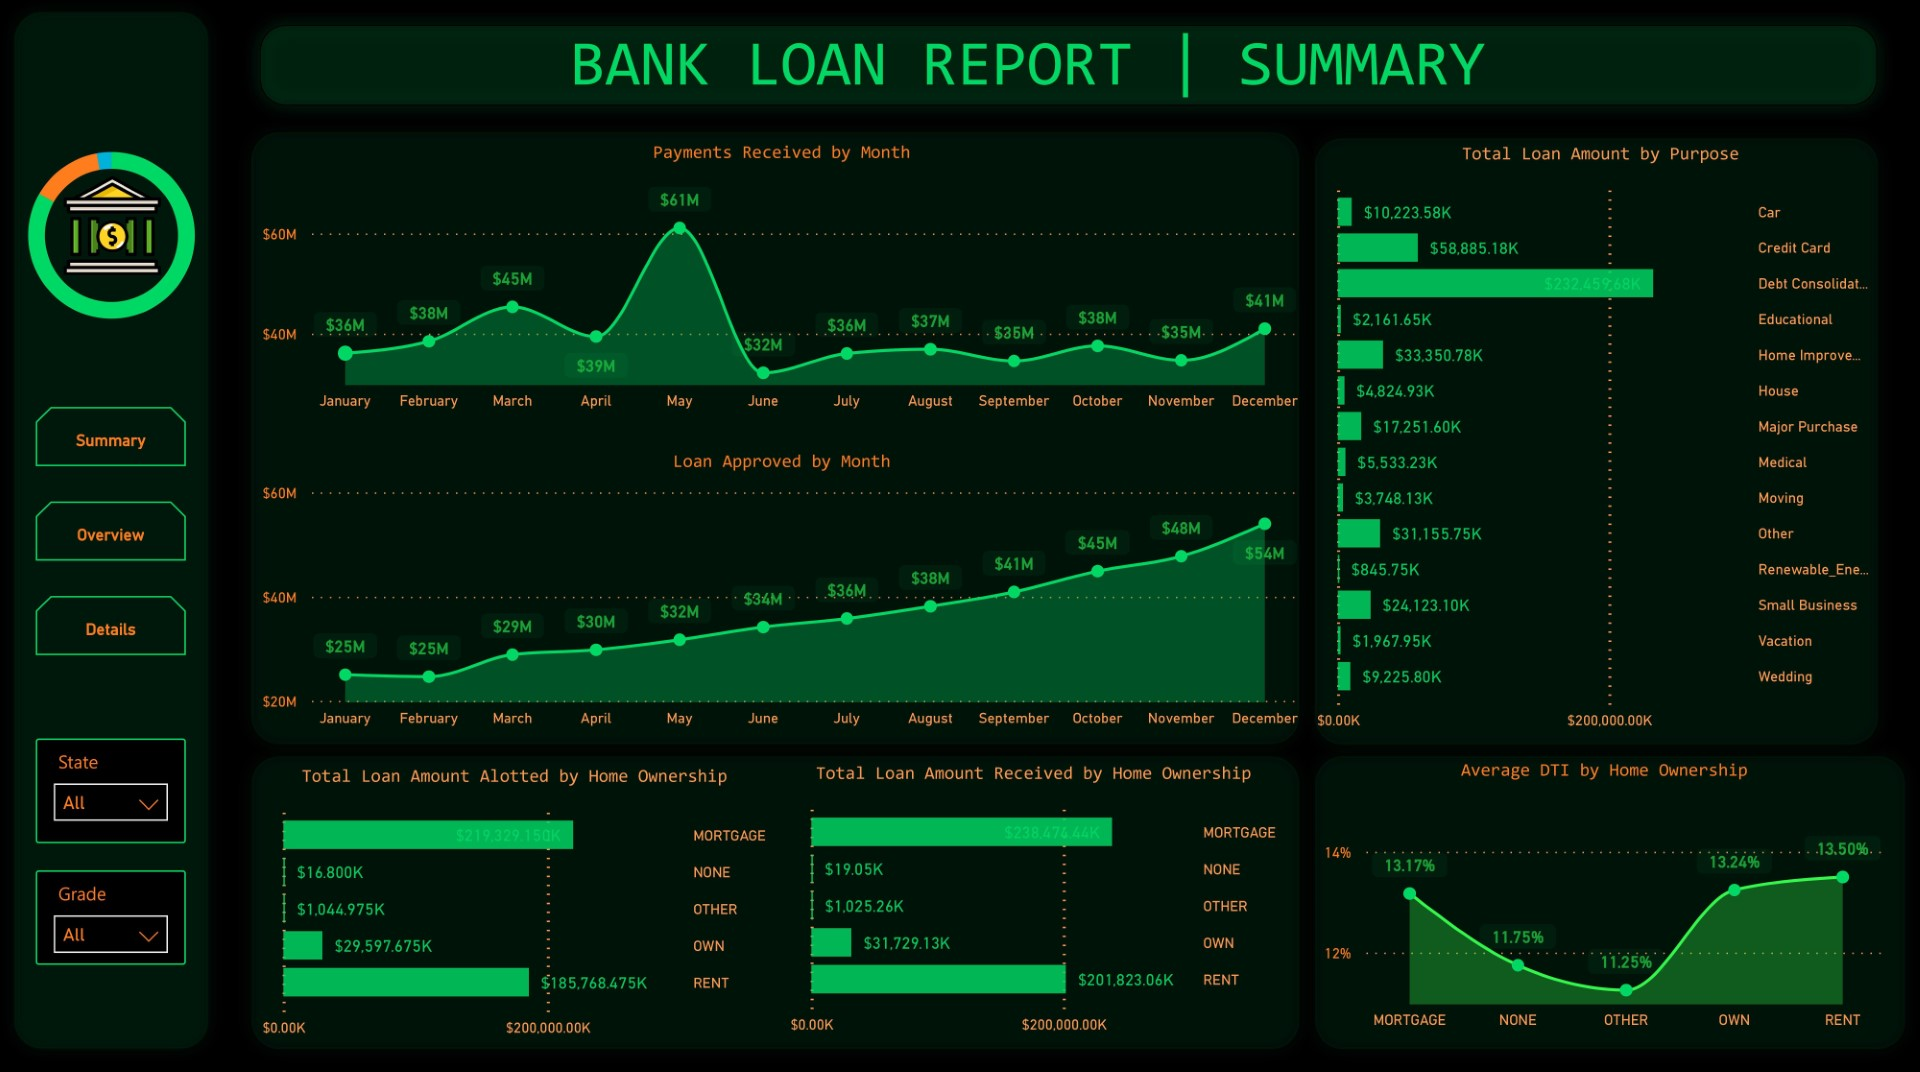

What the dashboard file says about the page in this screenshot:
{"tool":"powerbi","page":{"name":"Summary","canvas":[1280,720],"ordinal":0},"visuals":[{"type":"shape","title":"Menu Shadow","box":[0,0,148.8,710.5],"z":0,"group":"g9"},{"type":"shape","box":[162.8,8.1,1098.8,74.4],"z":0,"group":"g10"},{"type":"donutChart","title":"Loan Status","fields":{"Category":["financial_loan (2).loan_status"],"Y":["CountNonNull(financial_loan (2).id)"]},"box":[0,72.1,148.8,173.3],"z":0,"group":"g5"},{"type":"shape","title":"KPI Shadow","box":[161,83,1111.6,200],"z":0,"group":"g8"},{"type":"cardVisual","fields":{"Data":["Count(financial_loan (2).id)"]},"box":[187.2,114,202,86.9],"z":0,"group":"g2"},{"type":"group","id":"g1","title":"Shadow","box":[163.3,293,1098.7,260.6],"z":0,"group":"g6"},{"type":"shape","title":"KPI Shadow","box":[163.3,293,540.9,260.6],"z":0,"group":"g1"},{"type":"actionButton","box":[24.4,398.9,100,39.5],"z":0,"group":"g4"},{"type":"slicer","fields":{"Values":["finance.address_state"]},"box":[24.4,494.2,100,69.8],"z":0,"group":"g3"},{"type":"clusteredBarChart","title":"Chart Bar 1","fields":{"Category":["finance.loan_status"],"Y":["Count(finance.id)"]},"box":[162.8,582.6,308.1,119.8],"z":0,"group":"g7"},{"type":"textbox","box":[374.4,14,630.2,60],"z":1000,"group":"g10"},{"type":"image","box":[34.9,114,79.1,75.6],"z":1000,"group":"g5"},{"type":"group","id":"g2","title":"Group 1","box":[187.2,114,1062.8,150],"z":1000,"group":"g8"},{"type":"cardVisual","fields":{"Data":["Sum(financial_loan (2).loan_amount)"]},"box":[404.1,114,200.9,86.9],"z":1000,"group":"g2"},{"type":"actionButton","box":[24.4,273.3,100,39.5],"z":1000,"group":"g4"},{"type":"shape","title":"KPI Shadow","box":[721.1,293,540.9,260.6],"z":1000,"group":"g1"},{"type":"lineChart","fields":{"Category":["finance.issue_date.Variation.Date Hierarchy.Year","finance.issue_date.Variation.Date Hierarchy.Quarter","finance.issue_date.Variation.Date Hierarchy.Month","finance.issue_date.Variation.Date Hierarchy.Day"],"Y":["Avg(finance.int_rate)"]},"box":[180.2,314.6,506.4,219.9],"z":1000,"group":"g6"},{"type":"group","id":"g3","title":"Slicer","box":[24.4,494.2,100,151.2],"z":1000,"group":"g9"},{"type":"slicer","fields":{"Values":["finance.grade"]},"box":[24.4,582.6,100,62.8],"z":1000,"group":"g3"},{"type":"tableEx","fields":{"Values":["financial_loan (2).loan_status","CountNonNull(financial_loan (2).id)","Sum(financial_loan (2).loan_amount)","Sum(financial_loan (2).total_payment)","finance.MTD Amount Received","finance.MTD Funded Amount","Avg(financial_loan (2).int_rate)","Avg(financial_loan (2).dti)"]},"box":[484.9,586.1,776.7,118.6],"z":1000,"group":"g7"},{"type":"card","fields":{"Values":["finance.MTD Amount Received"]},"box":[654.8,211.9,69.1,48.6],"z":2000,"group":"g2"},{"type":"group","id":"g4","title":"Menu","box":[24.4,273.3,100,165.1],"z":2000,"group":"g9"},{"type":"lineChart","fields":{"Category":["finance.issue_date.Variation.Date Hierarchy.Year","finance.issue_date.Variation.Date Hierarchy.Quarter","finance.issue_date.Variation.Date Hierarchy.Month","finance.issue_date.Variation.Date Hierarchy.Day"],"Y":["Avg(finance.dti)"]},"box":[747.9,314.6,506.4,219.9],"z":2000,"group":"g6"},{"type":"actionButton","box":[24.4,336.1,100,39.5],"z":2000,"group":"g4"},{"type":"group","id":"g5","title":"Logo","box":[0,72.1,148.8,173.3],"z":3000,"group":"g9"},{"type":"card","fields":{"Values":["finance.Measure"]},"box":[427.1,213.4,68.9,48.6],"z":3000,"group":"g2"},{"type":"card","fields":{"Values":["finance.MTD Avg Intereset Rate"]},"box":[873.3,211.8,69.1,48.6],"z":4000,"group":"g2"},{"type":"card","fields":{"Values":["finance.MTD Loan Applications"]},"box":[220.9,214.3,70,48.6],"z":5000,"group":"g2"},{"type":"card","fields":{"Values":["finance.MTD Avg DTI"]},"box":[1079,215.4,69.1,48.6],"z":6000,"group":"g2"},{"type":"group","id":"g6","title":"Summary: Indicator 2","box":[163.3,293,1098.7,260.6],"z":6000},{"type":"card","fields":{"Values":["finance.MOM Loan Applications"]},"box":[291,214.3,68.9,48.6],"z":7000,"group":"g2"},{"type":"group","id":"g7","title":"Summary:  Indicator 1","box":[162.8,582.6,1098.8,122.1],"z":7000},{"type":"group","id":"g8","title":"KPI Panel","box":[161,83,1111.6,200],"z":8000},{"type":"card","fields":{"Values":["finance.MOM Avg DTI"]},"box":[1147.8,215.2,68.9,48.6],"z":8000,"group":"g2"},{"type":"group","id":"g9","title":"Side Bar","box":[0,0,148.8,710.5],"z":9000},{"type":"card","fields":{"Values":["finance.MOM Avg Interest Rate"]},"box":[942.6,212.7,68.9,48.6],"z":9000,"group":"g2"},{"type":"group","id":"g10","title":"Header","box":[162.8,8.1,1098.8,74.4],"z":10000},{"type":"card","fields":{"Values":["finance.MOM Amount Received"]},"box":[723.9,210.7,68.9,48.6],"z":10000,"group":"g2"},{"type":"card","fields":{"Values":["finance.MOM Funded Amount"]},"box":[495.9,214.5,70,48.6],"z":11000,"group":"g2"},{"type":"cardVisual","fields":{"Data":["Sum(finance.total_payment)"]},"box":[618.7,114,200.9,86.9],"z":12000,"group":"g2"},{"type":"cardVisual","fields":{"Data":["Avg(finance.int_rate)"]},"box":[832.2,115.1,202,86.9],"z":13000,"group":"g2"},{"type":"cardVisual","fields":{"Data":["Avg(finance.dti)"]},"box":[1048,116.3,202,86.9],"z":14000,"group":"g2"}]}

Visuals, with their boxes in screenshot pixels (x1, y1, x2, y2), scaled from the page's 1280x720 canvas onto the 1920x1072 screenshot:
"Menu Shadow" shape: pyautogui.locateOnScreen(0, 0, 223, 1058)
shape: pyautogui.locateOnScreen(244, 12, 1892, 123)
"Loan Status" donutChart: pyautogui.locateOnScreen(0, 107, 223, 365)
"KPI Shadow" shape: pyautogui.locateOnScreen(242, 124, 1909, 421)
cardVisual - Count(financial_loan (2).id): pyautogui.locateOnScreen(281, 170, 584, 299)
"Shadow" group: pyautogui.locateOnScreen(245, 436, 1893, 824)
"KPI Shadow" shape: pyautogui.locateOnScreen(245, 436, 1056, 824)
actionButton: pyautogui.locateOnScreen(37, 594, 187, 653)
slicer - finance.address_state: pyautogui.locateOnScreen(37, 736, 187, 840)
"Chart Bar 1" clusteredBarChart: pyautogui.locateOnScreen(244, 867, 706, 1046)
textbox: pyautogui.locateOnScreen(562, 21, 1507, 110)
image: pyautogui.locateOnScreen(52, 170, 171, 282)
"Group 1" group: pyautogui.locateOnScreen(281, 170, 1875, 393)
cardVisual - Sum(financial_loan (2).loan_amount): pyautogui.locateOnScreen(606, 170, 908, 299)
actionButton: pyautogui.locateOnScreen(37, 407, 187, 466)
"KPI Shadow" shape: pyautogui.locateOnScreen(1082, 436, 1893, 824)
lineChart - finance.issue_date.Variation.Date Hierarchy.Year x finance.issue_date.Variation.Date Hierarchy.Quarter: pyautogui.locateOnScreen(270, 468, 1030, 796)
"Slicer" group: pyautogui.locateOnScreen(37, 736, 187, 961)
slicer - finance.grade: pyautogui.locateOnScreen(37, 867, 187, 961)
tableEx - financial_loan (2).loan_status x CountNonNull(financial_loan (2).id): pyautogui.locateOnScreen(727, 873, 1892, 1049)
card - finance.MTD Amount Received: pyautogui.locateOnScreen(982, 315, 1086, 388)
"Menu" group: pyautogui.locateOnScreen(37, 407, 187, 653)
lineChart - finance.issue_date.Variation.Date Hierarchy.Year x finance.issue_date.Variation.Date Hierarchy.Quarter: pyautogui.locateOnScreen(1122, 468, 1881, 796)
actionButton: pyautogui.locateOnScreen(37, 500, 187, 559)
"Logo" group: pyautogui.locateOnScreen(0, 107, 223, 365)
card - finance.Measure: pyautogui.locateOnScreen(641, 318, 744, 390)
card - finance.MTD Avg Intereset Rate: pyautogui.locateOnScreen(1310, 315, 1414, 388)
card - finance.MTD Loan Applications: pyautogui.locateOnScreen(331, 319, 436, 391)
card - finance.MTD Avg DTI: pyautogui.locateOnScreen(1618, 321, 1722, 393)
"Summary: Indicator 2" group: pyautogui.locateOnScreen(245, 436, 1893, 824)
card - finance.MOM Loan Applications: pyautogui.locateOnScreen(436, 319, 540, 391)
"Summary:  Indicator 1" group: pyautogui.locateOnScreen(244, 867, 1892, 1049)
"KPI Panel" group: pyautogui.locateOnScreen(242, 124, 1909, 421)
card - finance.MOM Avg DTI: pyautogui.locateOnScreen(1722, 320, 1825, 393)
"Side Bar" group: pyautogui.locateOnScreen(0, 0, 223, 1058)
card - finance.MOM Avg Interest Rate: pyautogui.locateOnScreen(1414, 317, 1517, 389)
"Header" group: pyautogui.locateOnScreen(244, 12, 1892, 123)
card - finance.MOM Amount Received: pyautogui.locateOnScreen(1086, 314, 1189, 386)
card - finance.MOM Funded Amount: pyautogui.locateOnScreen(744, 319, 849, 392)
cardVisual - Sum(finance.total_payment): pyautogui.locateOnScreen(928, 170, 1229, 299)
cardVisual - Avg(finance.int_rate): pyautogui.locateOnScreen(1248, 171, 1551, 301)
cardVisual - Avg(finance.dti): pyautogui.locateOnScreen(1572, 173, 1875, 303)
